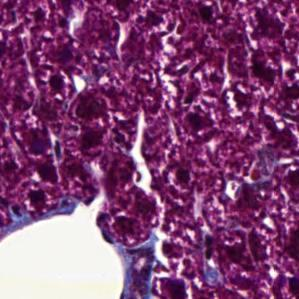inflammation: (221, 167, 266, 213), (42, 68, 73, 101)
